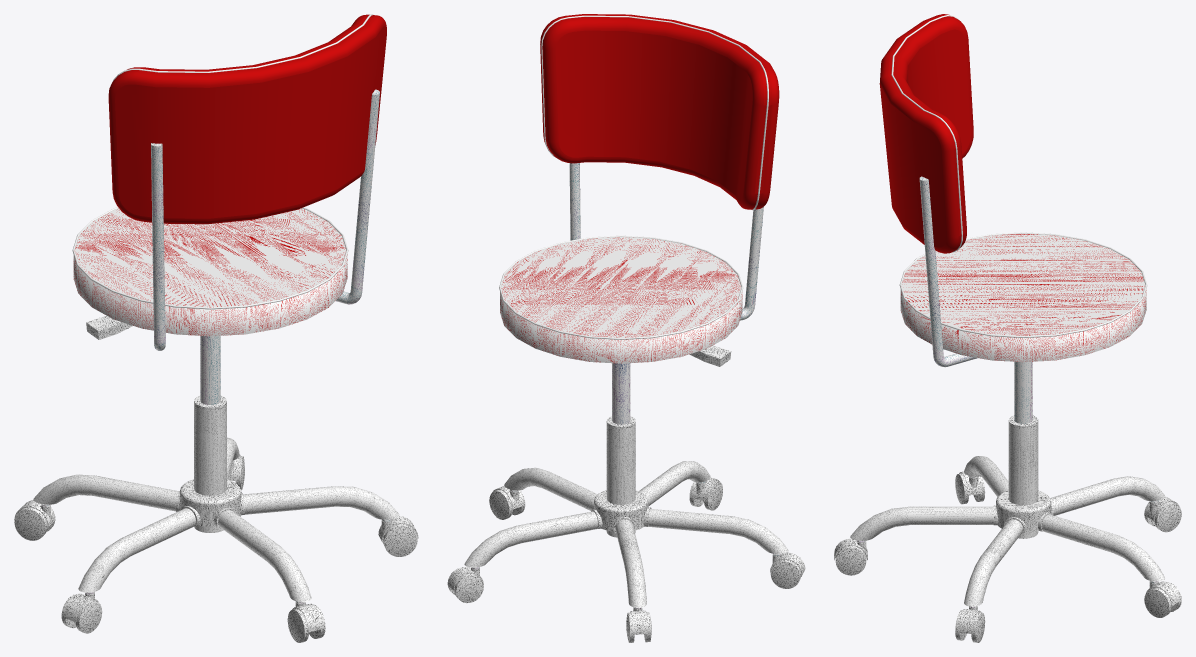
3 renders of one model, left to right at view 1: azimuth 30°, elevation 25°; view 2: azimuth 150°, elevation 25°; view 3: azimuth 270°, elevation 25°, orthographic. The views are drawn at different scales.
Parts seen in each view (by area): view 1: mesh2_mesh2-geometry, mesh1_mesh1-geometry, mesh12_mesh12-geometry, mesh11_mesh11-geometry, mesh8_mesh8-geometry, mesh17_mesh17-geometry, mesh18_mesh18-geometry, mesh13_mesh13-geometry, mesh9_mesh9-geometry, mesh6_mesh6-geometry, mesh37_mesh37-geometry, mesh3_mesh3-geometry; view 2: mesh2_mesh2-geometry, mesh1_mesh1-geometry, mesh12_mesh12-geometry, mesh8_mesh8-geometry, mesh11_mesh11-geometry, mesh17_mesh17-geometry, mesh18_mesh18-geometry, mesh13_mesh13-geometry, mesh9_mesh9-geometry, mesh6_mesh6-geometry, mesh3_mesh3-geometry, mesh37_mesh37-geometry; view 3: mesh1_mesh1-geometry, mesh2_mesh2-geometry, mesh12_mesh12-geometry, mesh8_mesh8-geometry, mesh11_mesh11-geometry, mesh18_mesh18-geometry, mesh17_mesh17-geometry, mesh13_mesh13-geometry, mesh9_mesh9-geometry, mesh6_mesh6-geometry, mesh3_mesh3-geometry.
Boxes of the visible parts, x1,y1,x2,y2 form: mesh2_mesh2-geometry: [108, 14, 386, 224]; mesh1_mesh1-geometry: [72, 207, 348, 336]; mesh12_mesh12-geometry: [33, 437, 399, 602]; mesh11_mesh11-geometry: [151, 89, 379, 350]; mesh8_mesh8-geometry: [194, 404, 226, 532]; mesh17_mesh17-geometry: [46, 456, 417, 642]; mesh18_mesh18-geometry: [14, 507, 383, 638]; mesh13_mesh13-geometry: [14, 454, 418, 632]; mesh9_mesh9-geometry: [179, 479, 241, 526]; mesh6_mesh6-geometry: [200, 336, 220, 404]; mesh37_mesh37-geometry: [86, 316, 132, 339]; mesh3_mesh3-geometry: [113, 14, 373, 80]; mesh2_mesh2-geometry: [540, 14, 779, 209]; mesh1_mesh1-geometry: [499, 235, 743, 363]; mesh12_mesh12-geometry: [464, 461, 788, 607]; mesh8_mesh8-geometry: [606, 424, 635, 537]; mesh11_mesh11-geometry: [569, 163, 763, 320]; mesh17_mesh17-geometry: [447, 480, 801, 642]; mesh18_mesh18-geometry: [454, 482, 801, 642]; mesh13_mesh13-geometry: [447, 477, 805, 634]; mesh9_mesh9-geometry: [594, 490, 648, 531]; mesh6_mesh6-geometry: [612, 363, 630, 424]; mesh3_mesh3-geometry: [541, 15, 768, 210]; mesh37_mesh37-geometry: [689, 345, 731, 366]; mesh1_mesh1-geometry: [899, 232, 1147, 362]; mesh2_mesh2-geometry: [879, 14, 973, 253]; mesh12_mesh12-geometry: [850, 456, 1164, 606]; mesh8_mesh8-geometry: [1008, 423, 1038, 538]; mesh11_mesh11-geometry: [919, 176, 977, 367]; mesh18_mesh18-geometry: [835, 473, 1181, 642]; mesh17_mesh17-geometry: [955, 476, 1181, 640]; mesh13_mesh13-geometry: [834, 471, 1181, 633]; mesh9_mesh9-geometry: [996, 490, 1051, 532]; mesh6_mesh6-geometry: [1014, 361, 1032, 423]; mesh3_mesh3-geometry: [891, 15, 962, 252].
Size of the model in its own units: 0.4863 by 0.7409 by 0.4632.
